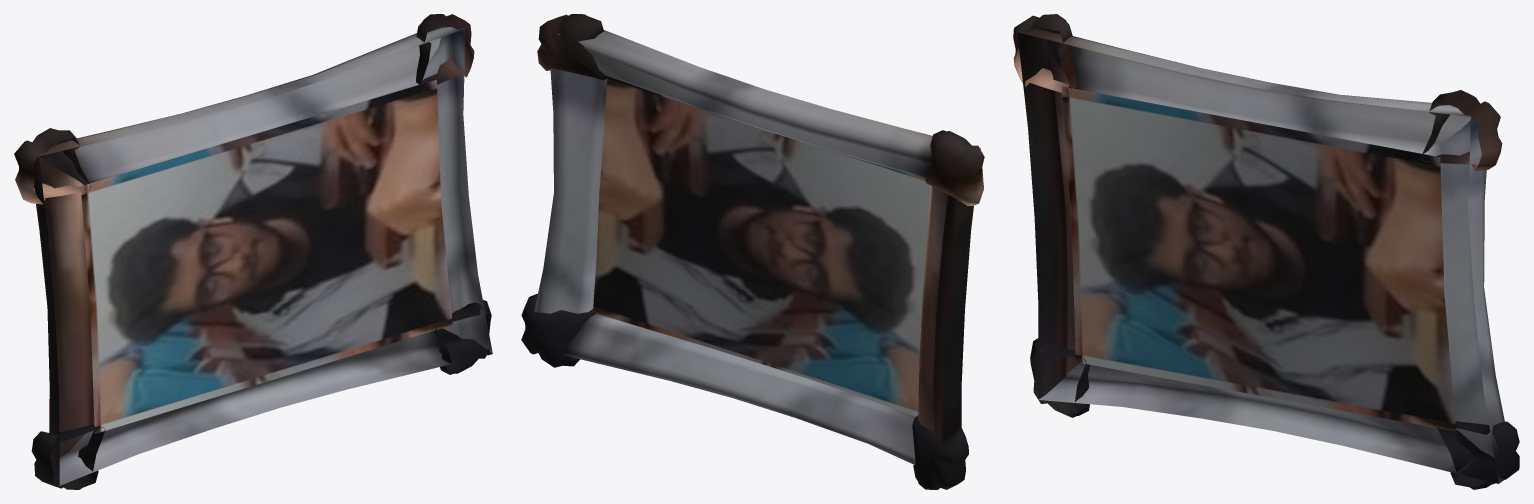
Rendered from waleedframe.fbx.
3 renders of one model, left to right at view 1: azimuth 30°, elevation 25°; view 2: azimuth 150°, elevation 25°; view 3: azimuth 330°, elevation 25°, orthographic. The views are drawn at different scales.
Parts seen in each view (by area): view 1: PictureFrame_StraightThin_3; view 2: PictureFrame_StraightThin_3; view 3: PictureFrame_StraightThin_3.
Part boxes in pixels (<box>): PictureFrame_StraightThin_3: <box>14,14,492,489</box>; PictureFrame_StraightThin_3: <box>521,14,984,489</box>; PictureFrame_StraightThin_3: <box>1013,14,1519,489</box>.
Bounding box in the file's own units: 752 × 597 × 68.53.
Materials: 1 (1 with a texture image).
